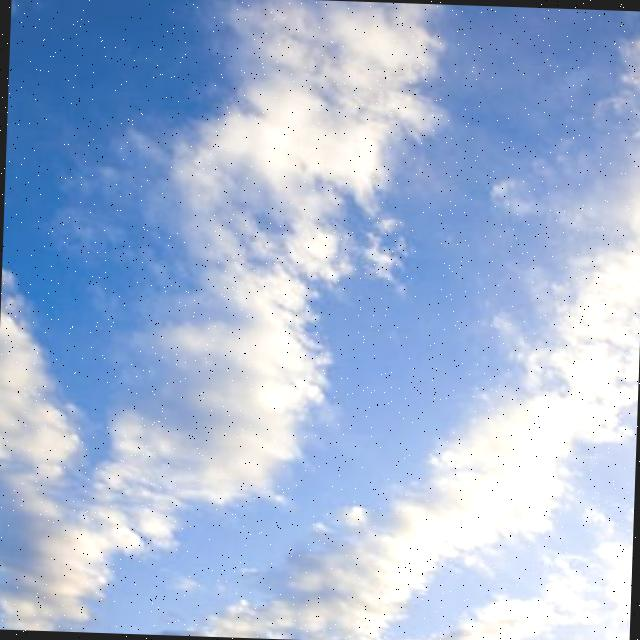Ac: (1, 1, 640, 605)
